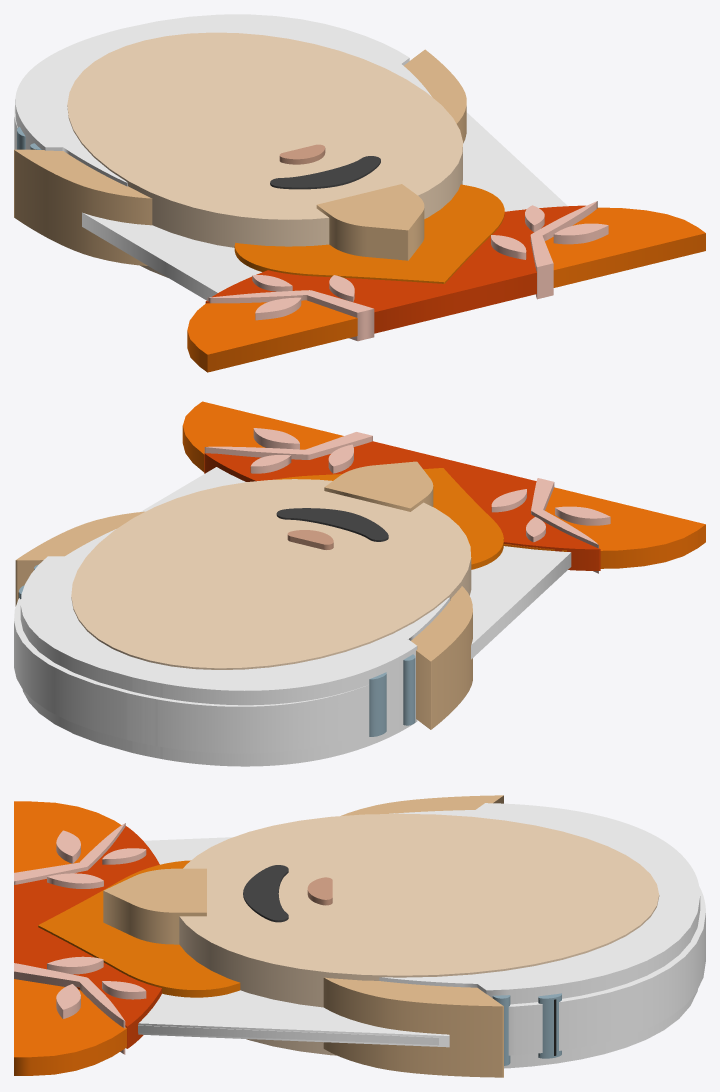
Rendered from emoji_u1f9dd_1f3fb.glb.
3 renders of one model, top to bottom at view 1: azimuth 30°, elevation 25°; view 2: azimuth 150°, elevation 25°; view 3: azimuth 270°, elevation 25°, orthographic. The views are drawn at different scales.
Visible parts, largest first — view 1: emoji_u1f9dd_1f3fb; view 2: emoji_u1f9dd_1f3fb; view 3: emoji_u1f9dd_1f3fb.
Part boxes in pixels (bbox=[...]): emoji_u1f9dd_1f3fb: bbox=[14, 14, 705, 372]; emoji_u1f9dd_1f3fb: bbox=[14, 401, 705, 766]; emoji_u1f9dd_1f3fb: bbox=[14, 795, 705, 1077].
Size of the model in its own units: 0.0292 by 0.005 by 0.0334.
